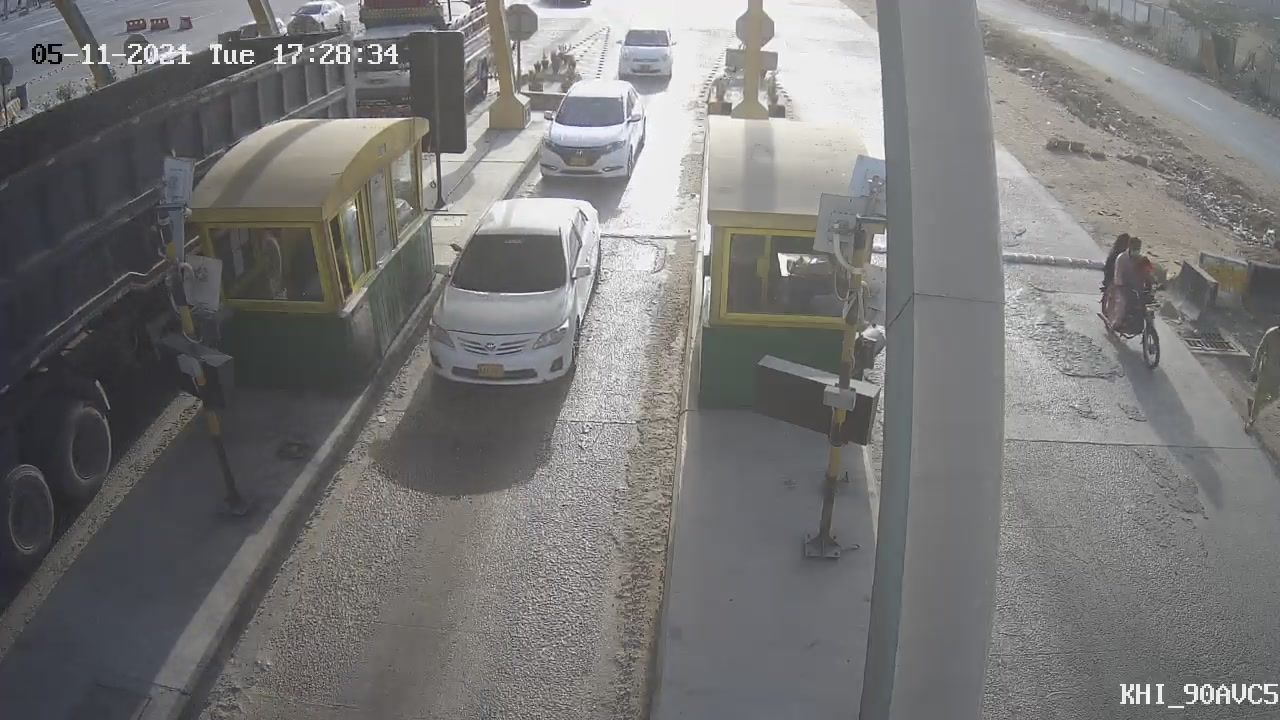F1: (404, 179, 622, 408), (518, 64, 660, 201)
